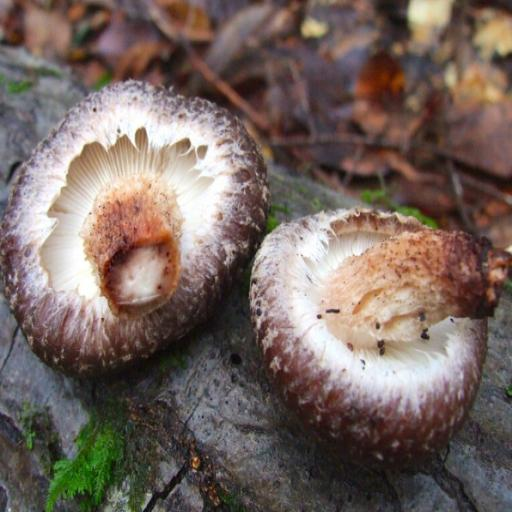Shiitake Mushroom: (0, 58, 293, 382), (227, 202, 497, 460)
